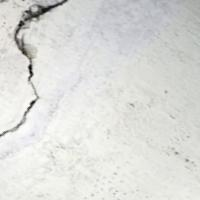crack: (0, 0, 71, 143)
